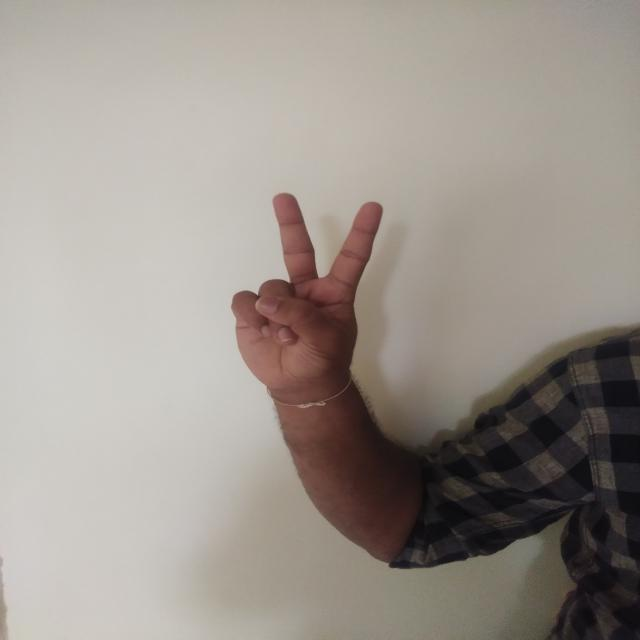No: (198, 182, 410, 440)
